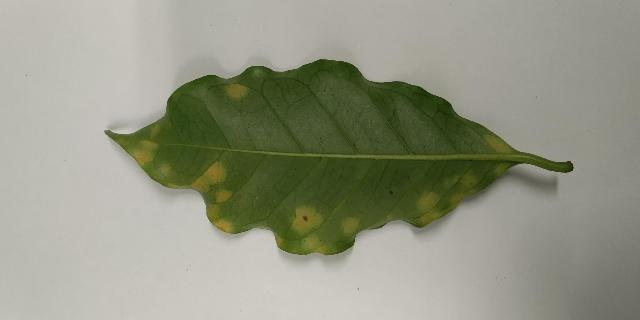miner: (115, 136, 226, 192), (417, 173, 476, 226), (274, 206, 336, 255), (207, 188, 239, 234), (486, 136, 511, 154), (341, 218, 359, 236), (227, 84, 246, 98), (150, 123, 160, 136)
